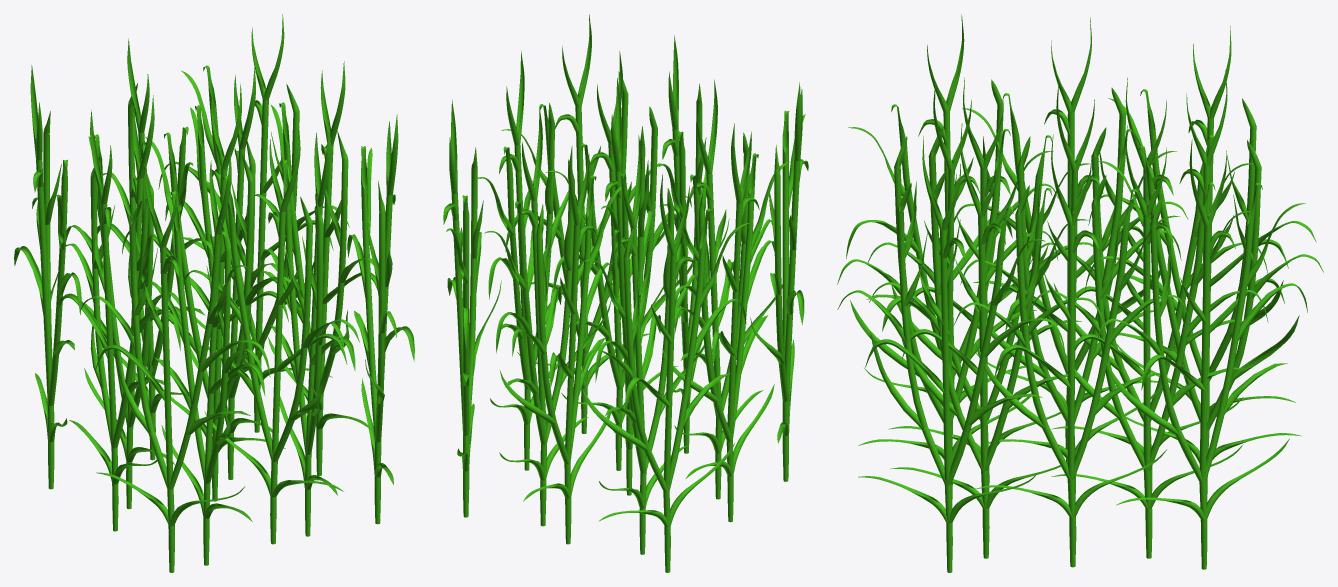
The model's file is Wheat_lvl3.fbx.
3 views of the same model, side by side, from view 1: azimuth 30°, elevation 25°; view 2: azimuth 150°, elevation 25°; view 3: azimuth 270°, elevation 25° (orthographic). The views are drawn at different scales.
Visible parts, largest first — view 1: Seed_wheed_lvl3_LOD0; view 2: Seed_wheed_lvl3_LOD0; view 3: Seed_wheed_lvl3_LOD0.
Part boxes in pixels (box(x1,y1,x2,y2)): Seed_wheed_lvl3_LOD0: box(14, 14, 414, 572); Seed_wheed_lvl3_LOD0: box(443, 14, 808, 572); Seed_wheed_lvl3_LOD0: box(837, 14, 1323, 572).
Size of what is drawn, in the model's own units: 160 by 120 by 168.
